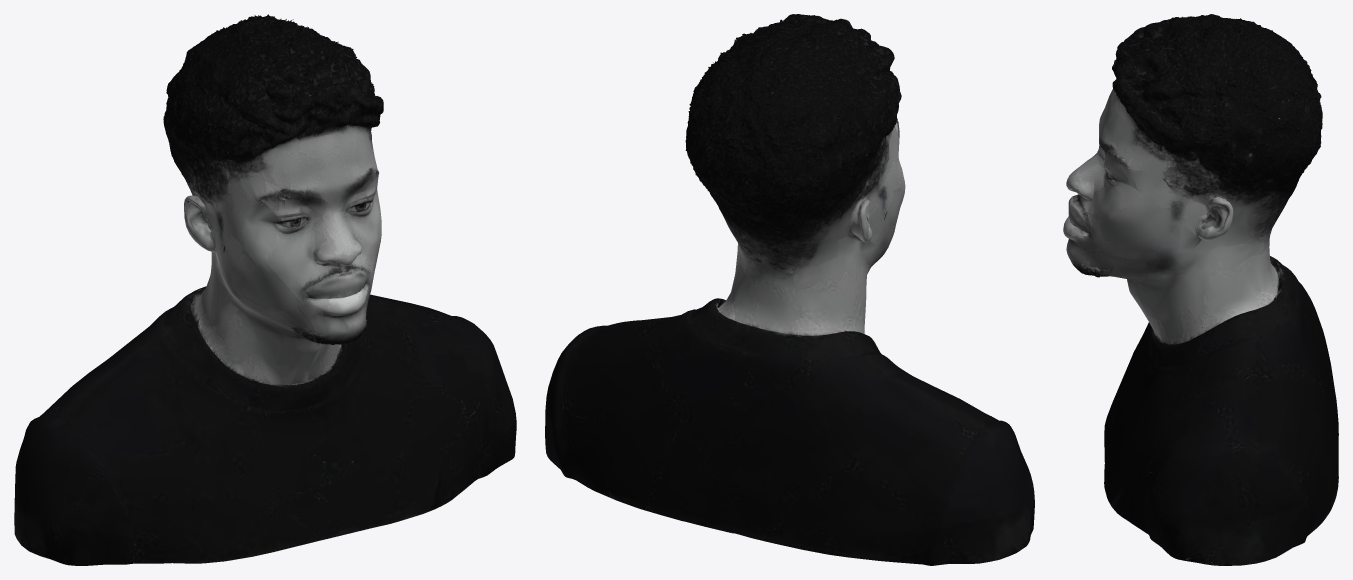
The model's file is head.glb.
The picture shows the model from 3 angles, left to right: view 1: azimuth 30°, elevation 25°; view 2: azimuth 150°, elevation 25°; view 3: azimuth 270°, elevation 25°; orthographic projection. The views are drawn at different scales.
Size of the model in its own units: 1.88 by 1.77 by 1.01.
Materials: 1 (1 with a texture image).
